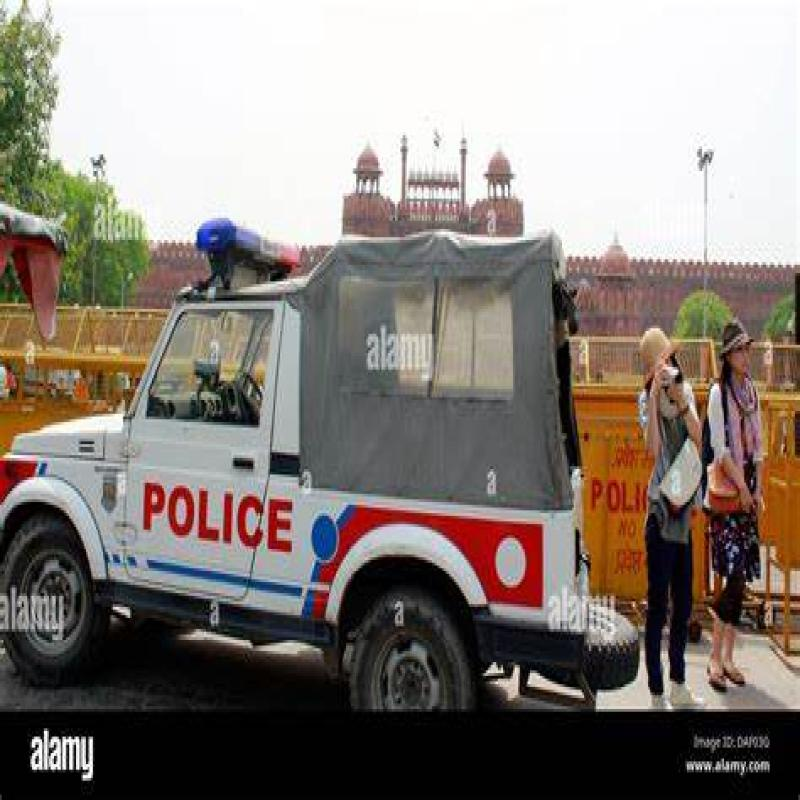AmbulanceSiren: (182, 196, 303, 313)
